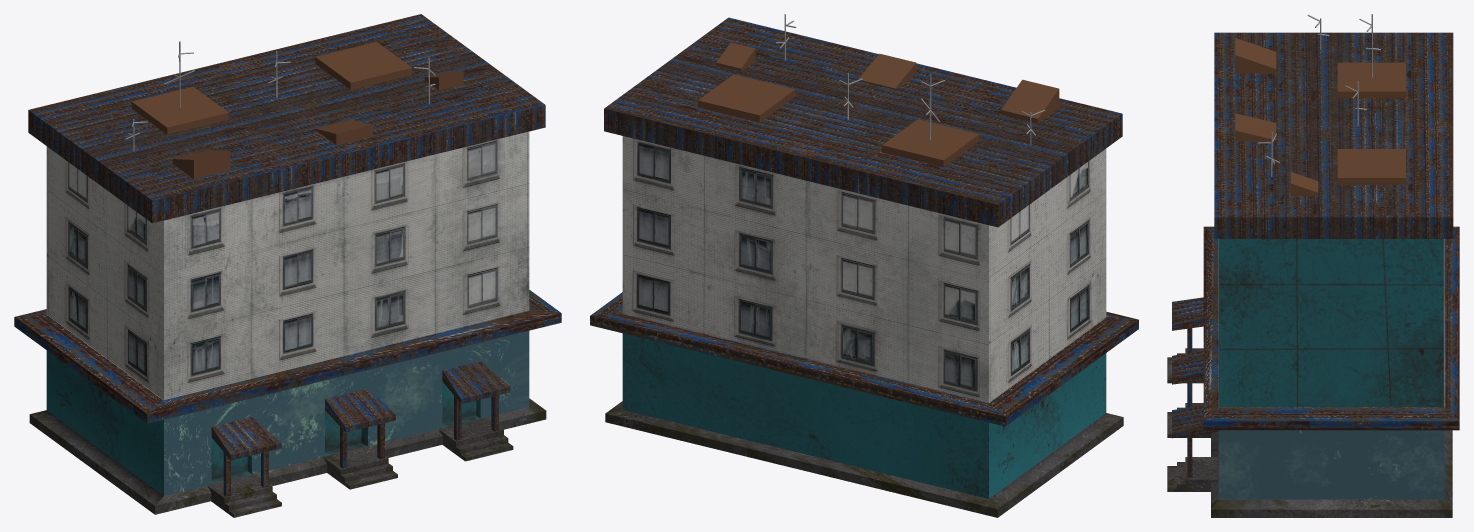
File: house3_default.fbx
3 views of the same model, side by side, from view 1: azimuth 30°, elevation 25°; view 2: azimuth 150°, elevation 25°; view 3: azimuth 270°, elevation 25° (orthographic). The views are drawn at different scales.
Parts seen in each view (by area): view 1: home3; view 2: home3; view 3: home3.
Part boxes in pixels (x1=…): home3: x1=14, y1=14, x2=561, y2=517; home3: x1=590, y1=14, x2=1138, y2=517; home3: x1=1167, y1=14, x2=1459, y2=517.
Bounding box in the file's own units: 1961 × 1744 × 1244.
Materials: 1 (1 with a texture image).
